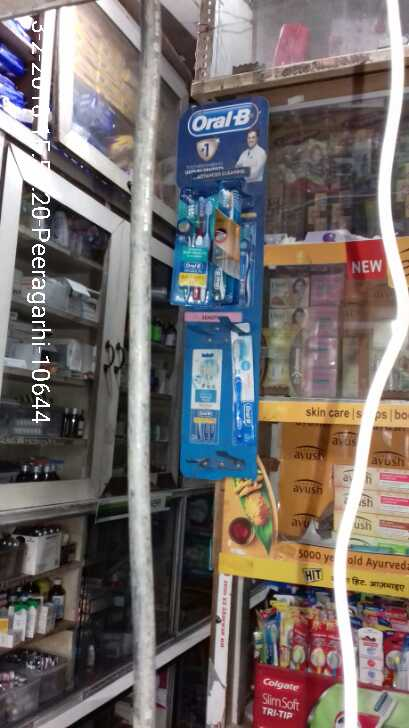oralb: (172, 189, 213, 313), (210, 186, 246, 300), (226, 333, 261, 450)
